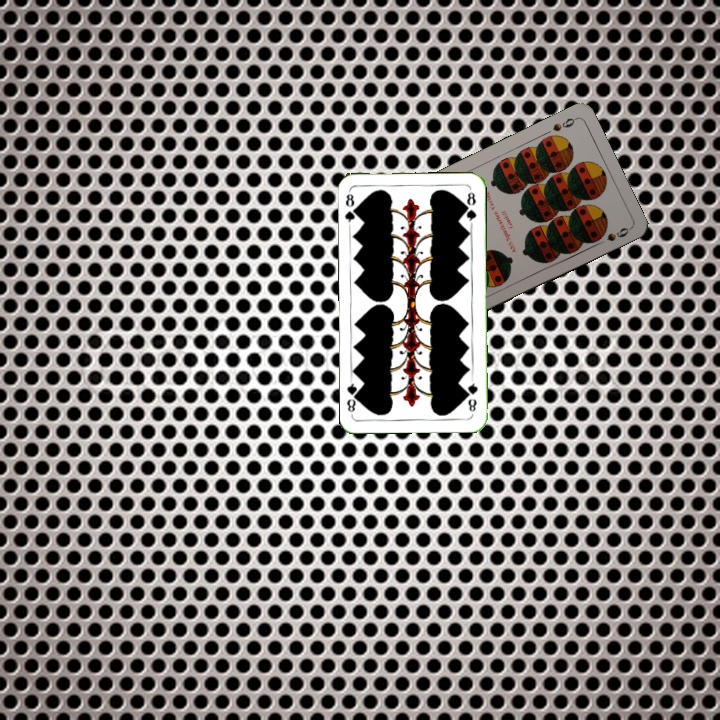G8: (341, 188, 361, 228), (463, 376, 480, 414)
S9: (549, 113, 579, 134)
